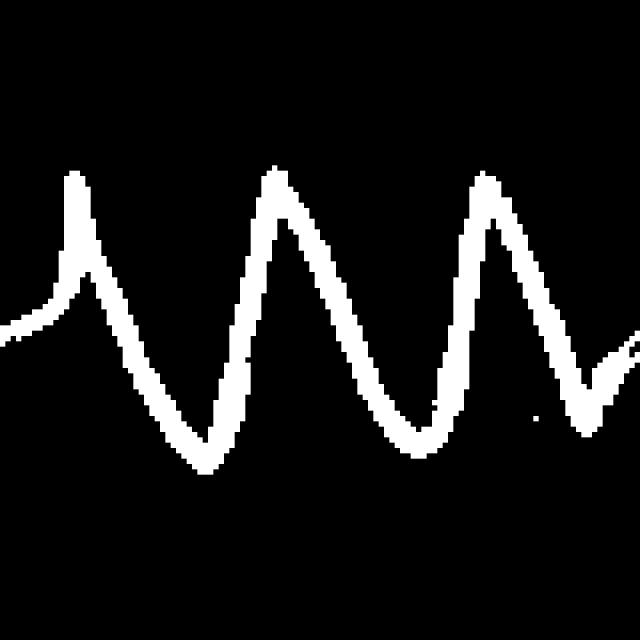resistor: (43, 144, 606, 482)
